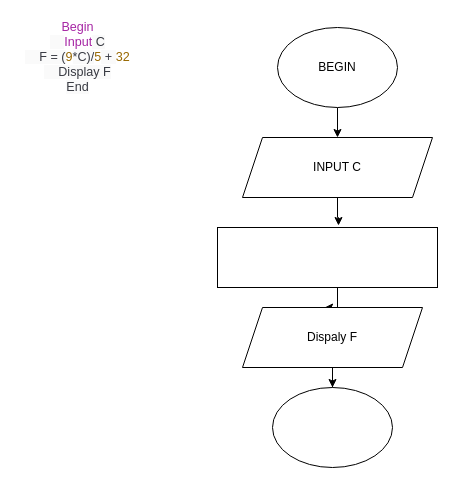
The diagram is 455 pixels wide and 485 high, and some of its shapes have lost their labels. Each missing label, with the box of its shape:
END: (272, 386, 392, 468)
F = (9*C)/5 + 32: (216, 226, 438, 288)
